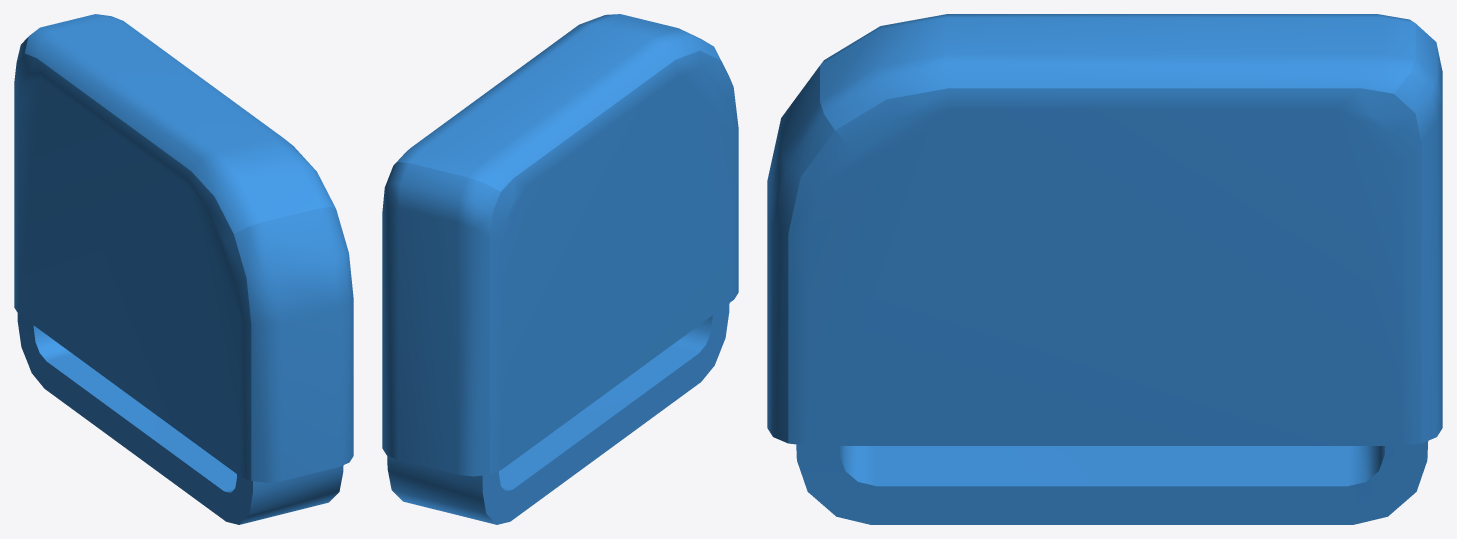
File: obj_rewards_modularsofa02.fbx
3 renders of one model, left to right at view 1: azimuth 30°, elevation 25°; view 2: azimuth 150°, elevation 25°; view 3: azimuth 270°, elevation 25°, orthographic. The views are drawn at different scales.
Parts seen in each view (by area): view 1: part4_lp.001; view 2: part4_lp.001; view 3: part4_lp.001.
Part boxes in pixels (x1,y1,x2,y2): part4_lp.001: [14, 14, 353, 524]; part4_lp.001: [382, 14, 738, 524]; part4_lp.001: [767, 14, 1442, 524].
Bounding box in the file's own units: 1 × 3 × 3.99.
